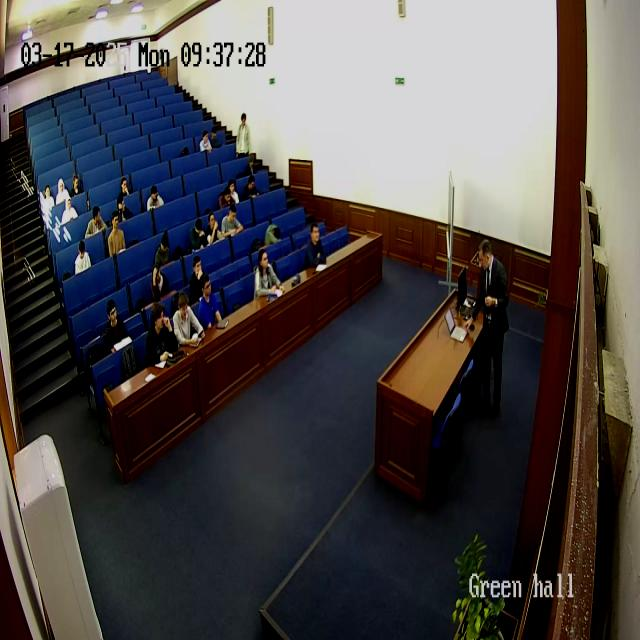person: (467, 238, 511, 415), (144, 301, 177, 367), (172, 292, 204, 348), (252, 249, 283, 300), (102, 300, 130, 356), (195, 276, 223, 331), (108, 210, 128, 266), (188, 255, 210, 305), (306, 222, 328, 270), (220, 204, 244, 240), (150, 263, 170, 305), (188, 216, 210, 253), (84, 204, 106, 239), (235, 113, 251, 160), (154, 230, 172, 268), (74, 239, 92, 276), (204, 212, 222, 247), (61, 191, 78, 226), (264, 216, 282, 245), (218, 183, 236, 212), (146, 184, 164, 212), (55, 178, 71, 208), (41, 184, 55, 218), (114, 195, 130, 224), (242, 175, 258, 202), (119, 176, 132, 202), (199, 130, 213, 154), (70, 173, 82, 199), (208, 127, 222, 149)
